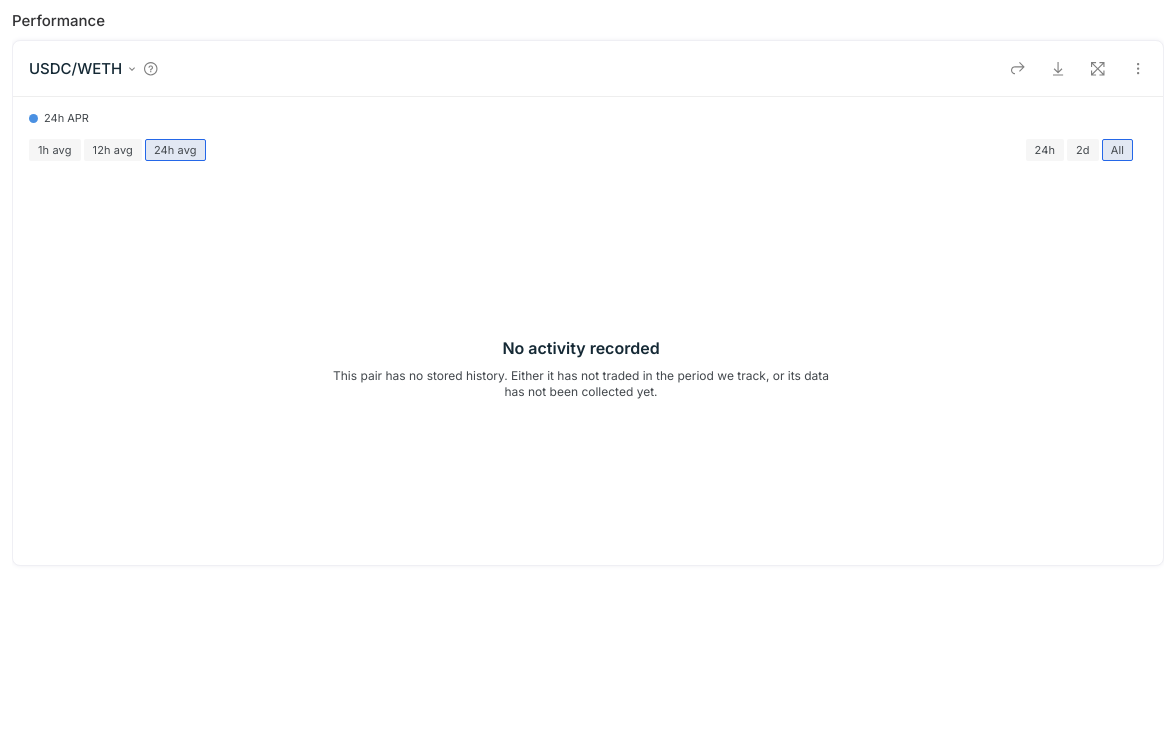
Test case: PerformanceCard › names an empty range apart from a pair with no rows
The width and height of the screenshot is (1164, 732).
Check: the text "No activity recorded" is shown, box [502,338,660,358]
Click the button "24h" at coordinates (1045, 150), box [1026,139,1064,161]
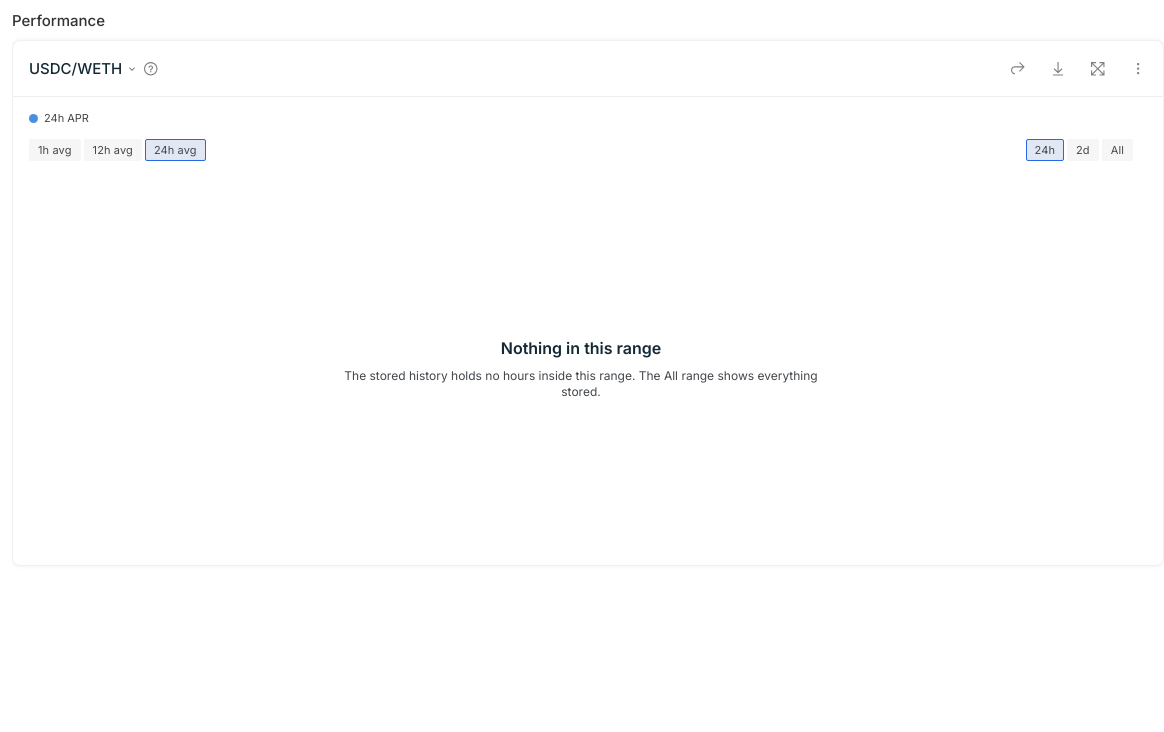
Check: the text "Nothing in this range" is shown, box [501,338,661,358]
Check: the text "No activity recorded" is gone
